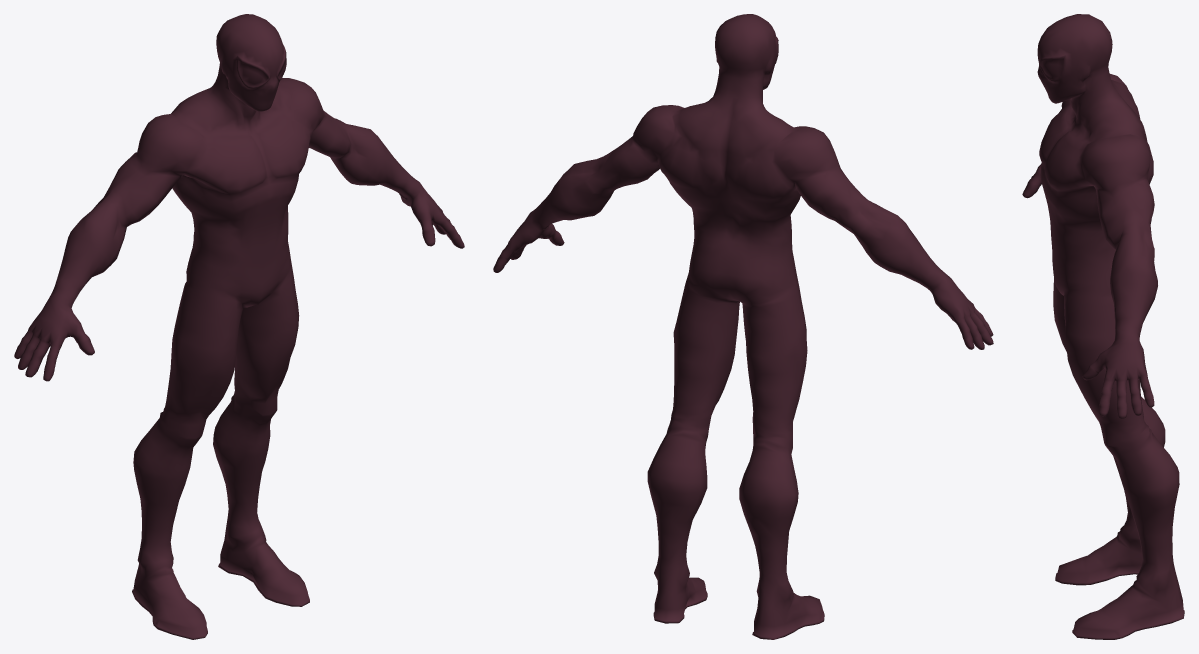
Rendered from spiderman.obj.
3 renders of one model, left to right at view 1: azimuth 30°, elevation 25°; view 2: azimuth 150°, elevation 25°; view 3: azimuth 270°, elevation 25°, orthographic. The views are drawn at different scales.
Visible parts, largest first — view 1: Mesh1 skp9905_1 Model; view 2: Mesh1 skp9905_1 Model; view 3: Mesh1 skp9905_1 Model.
Boxes of the visible parts, box(x1,y1,x2,y2) form: Mesh1 skp9905_1 Model: box(14, 14, 464, 639); Mesh1 skp9905_1 Model: box(493, 14, 993, 639); Mesh1 skp9905_1 Model: box(1022, 14, 1184, 639).
Bounding box in the file's own units: 115 × 140 × 34.8.
